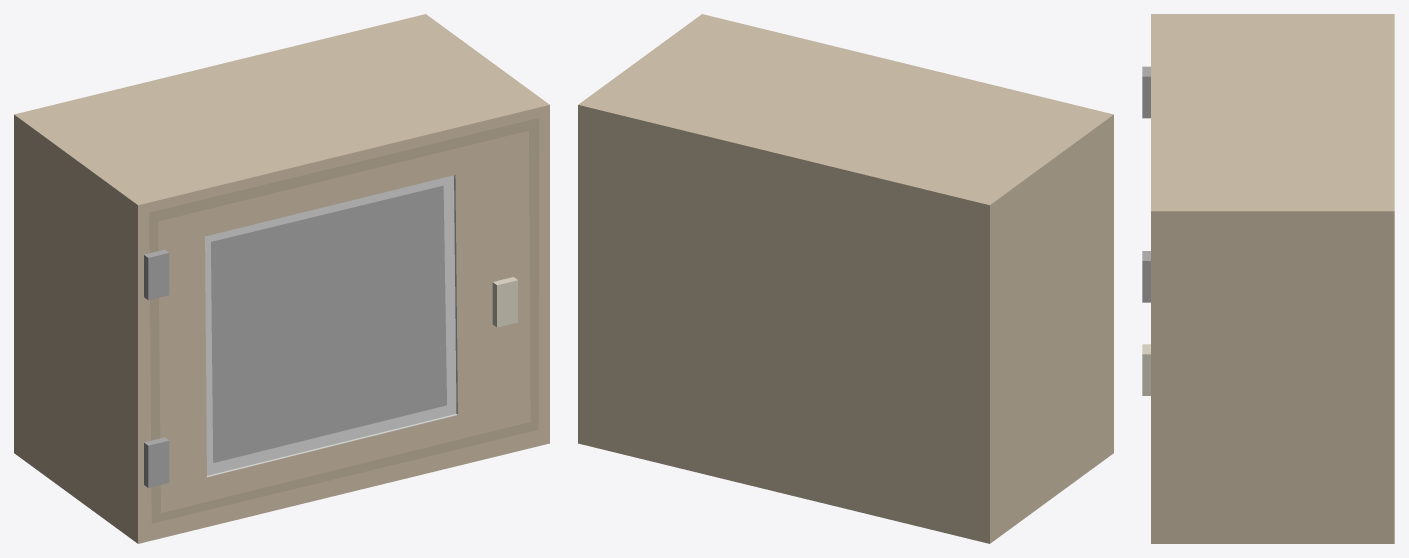
Rendered from locker.fbx.
3 views of the same model, side by side, from view 1: azimuth 30°, elevation 25°; view 2: azimuth 150°, elevation 25°; view 3: azimuth 270°, elevation 25° (orthographic).
Visible parts, largest first — view 1: Null_2; view 2: Null_2; view 3: Null_2.
Part boxes in pixels (x1,y1,x2,y2): Null_2: (14, 14, 549, 543); Null_2: (578, 14, 1113, 543); Null_2: (1142, 14, 1394, 543).
Size of the model in its own units: 82.44 by 64.78 by 44.56.
